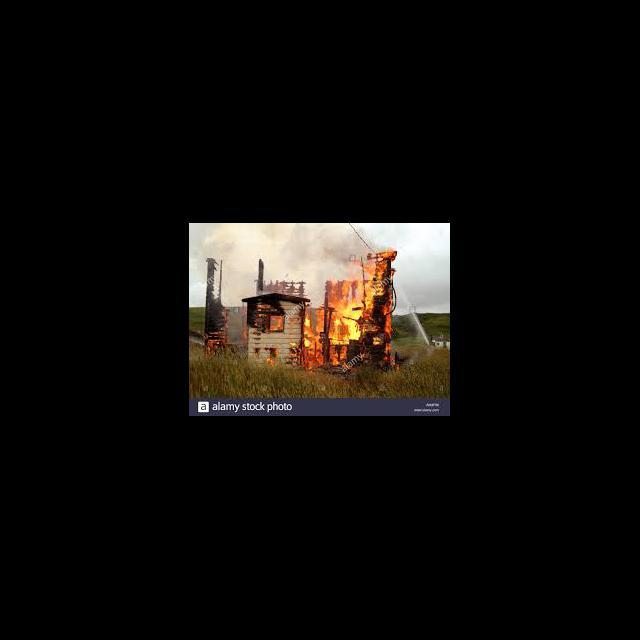Fire: (350, 247, 400, 350), (325, 278, 348, 369), (304, 306, 326, 371), (207, 334, 220, 358), (271, 316, 284, 331), (267, 359, 273, 369), (276, 349, 280, 358)
Smoke: (200, 226, 348, 258), (266, 259, 351, 278)
